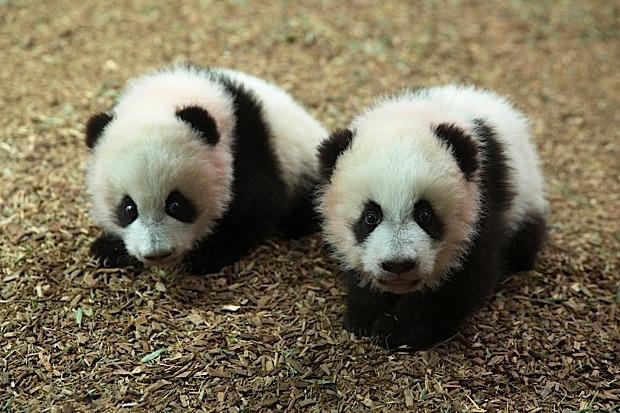panda: (316, 81, 553, 347), (72, 57, 332, 272)
